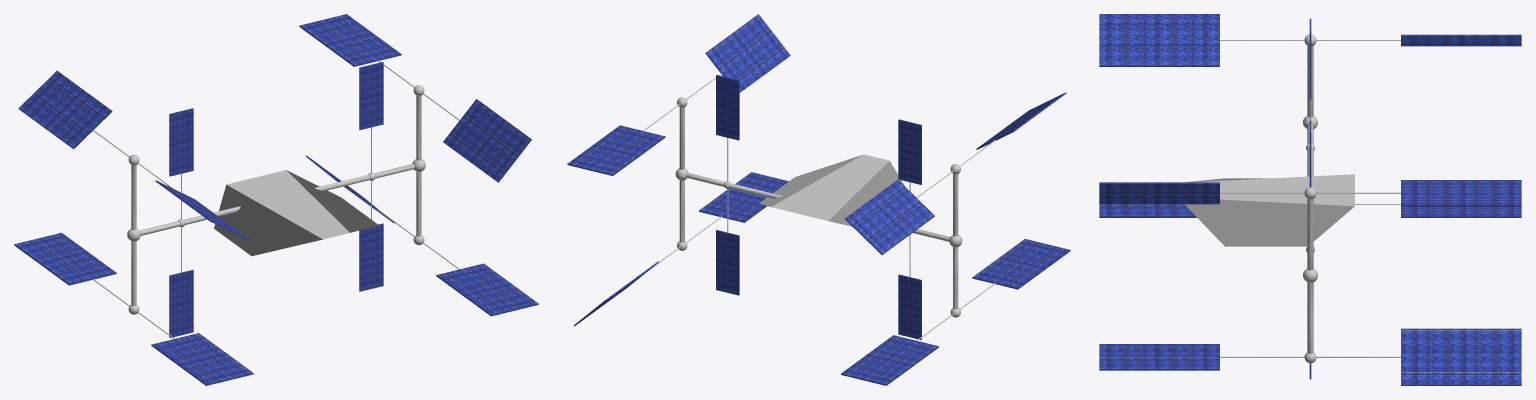
The model's file is Medium Station.obj.
3 views of the same model, side by side, from view 1: azimuth 30°, elevation 25°; view 2: azimuth 150°, elevation 25°; view 3: azimuth 270°, elevation 25° (orthographic). The views are drawn at different scales.
Parts seen in each view (by area): view 1: Box001, Box007, Box012, Box009, Box006, Box010, Box011, Box002, Box004, Box003, Box005, Cylinder001 (+3 smaller); view 2: Box001, Box012, Box007, Box011, Box006, Box010, Box009, Box002, Box004, Box005, Box003, Cylinder002 (+3 smaller); view 3: Box001, Box008, Box013, Box006, Box009, Box007, Box012, Box010, Box011, Cylinder002, Cylinder003.
Part boxes in pixels (left/top/right/bottom): Box001: left=214, top=170, right=378, bottom=256; Box007: left=443, top=99, right=531, bottom=182; Box012: left=18, top=70, right=112, bottom=149; Box009: left=436, top=263, right=538, bottom=316; Box006: left=299, top=14, right=401, bottom=66; Box010: left=14, top=232, right=116, bottom=285; Box011: left=151, top=333, right=253, bottom=385; Box002: left=169, top=108, right=193, bottom=176; Box004: left=359, top=62, right=383, bottom=129; Box003: left=169, top=270, right=193, bottom=337; Box005: left=359, top=223, right=383, bottom=291; Cylinder001: left=140, top=164, right=414, bottom=235; Box001: left=759, top=154, right=904, bottom=226; Box012: left=845, top=180, right=934, bottom=254; Box007: left=705, top=14, right=790, bottom=92; Box011: left=972, top=239, right=1070, bottom=289; Box006: left=567, top=125, right=665, bottom=175; Box010: left=841, top=335, right=938, bottom=385; Box009: left=699, top=172, right=788, bottom=222; Box002: left=898, top=119, right=921, bottom=184; Box004: left=716, top=75, right=739, bottom=140; Box005: left=716, top=230, right=739, bottom=295; Box003: left=898, top=274, right=921, bottom=339; Cylinder002: left=679, top=107, right=684, bottom=242; Box001: left=1185, top=174, right=1354, bottom=246; Box008: left=1401, top=328, right=1521, bottom=385; Box013: left=1099, top=14, right=1219, bottom=66; Box006: left=1401, top=180, right=1521, bottom=206; Box009: left=1099, top=344, right=1219, bottom=370; Box007: left=1099, top=182, right=1219, bottom=204; Box012: left=1401, top=34, right=1521, bottom=46; Box010: left=1401, top=207, right=1521, bottom=217; Box011: left=1099, top=204, right=1196, bottom=217; Cylinder002: left=1307, top=198, right=1313, bottom=353; Cylinder003: left=1307, top=46, right=1313, bottom=117.
Size of the model in its own units: 70 by 45 by 70.
